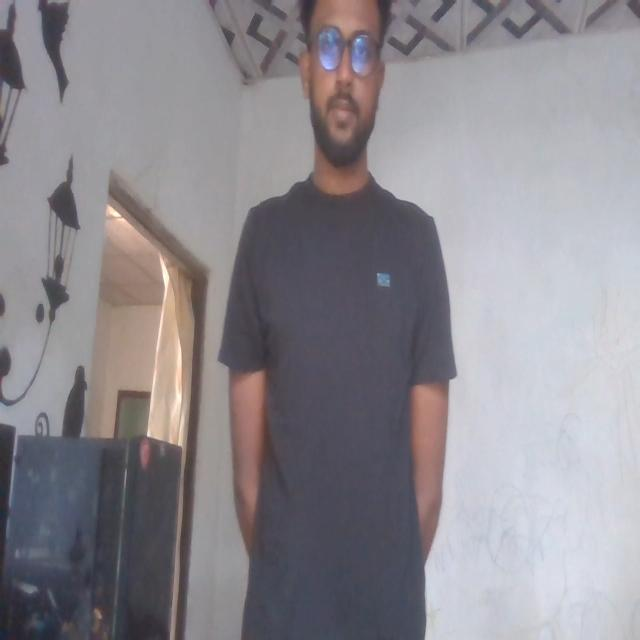Person: (224, 0, 446, 640)
